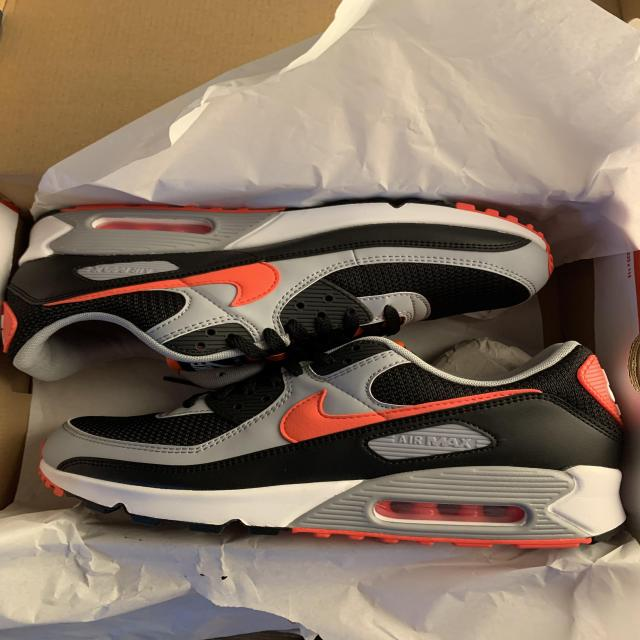shoe: (32, 339, 630, 550), (0, 198, 557, 376)
